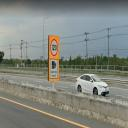speed_limit_120: (50, 38, 59, 56)
